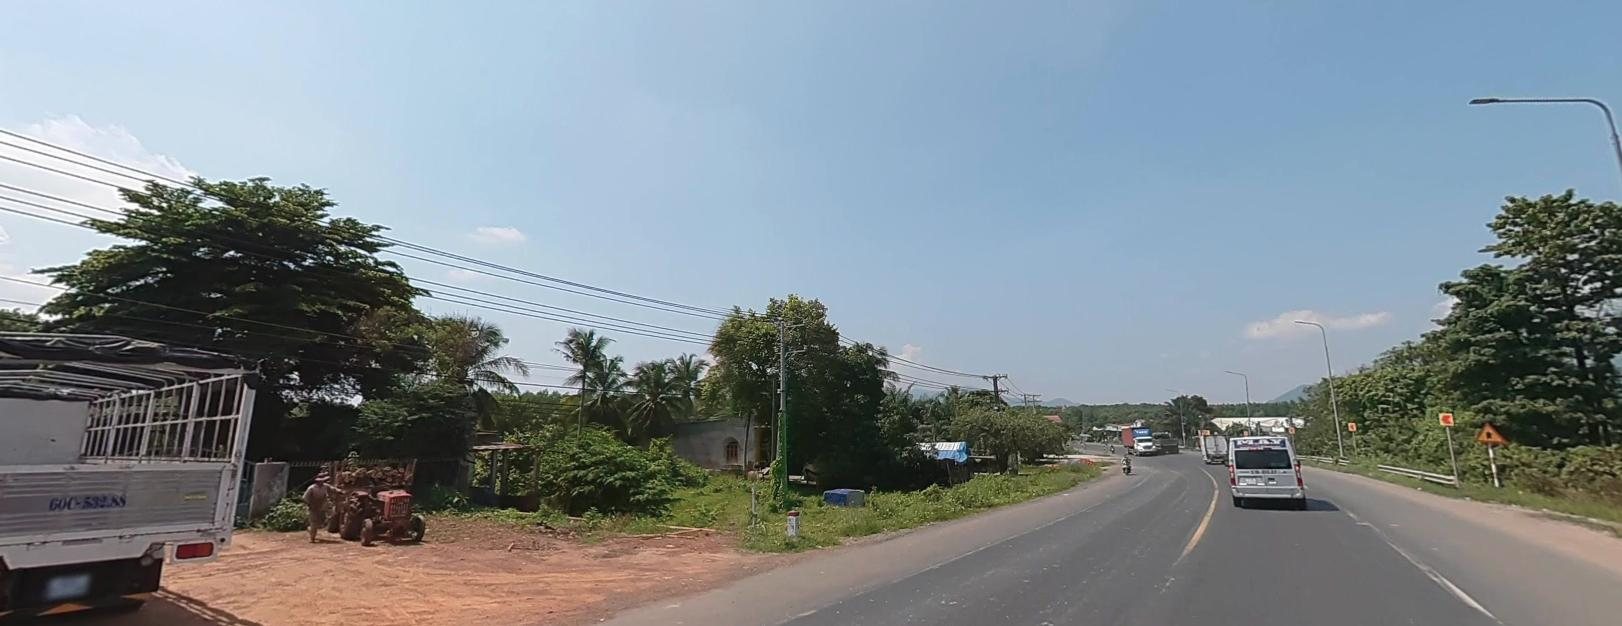Nguy hiem: (1476, 419, 1509, 441), (1476, 420, 1508, 441)
